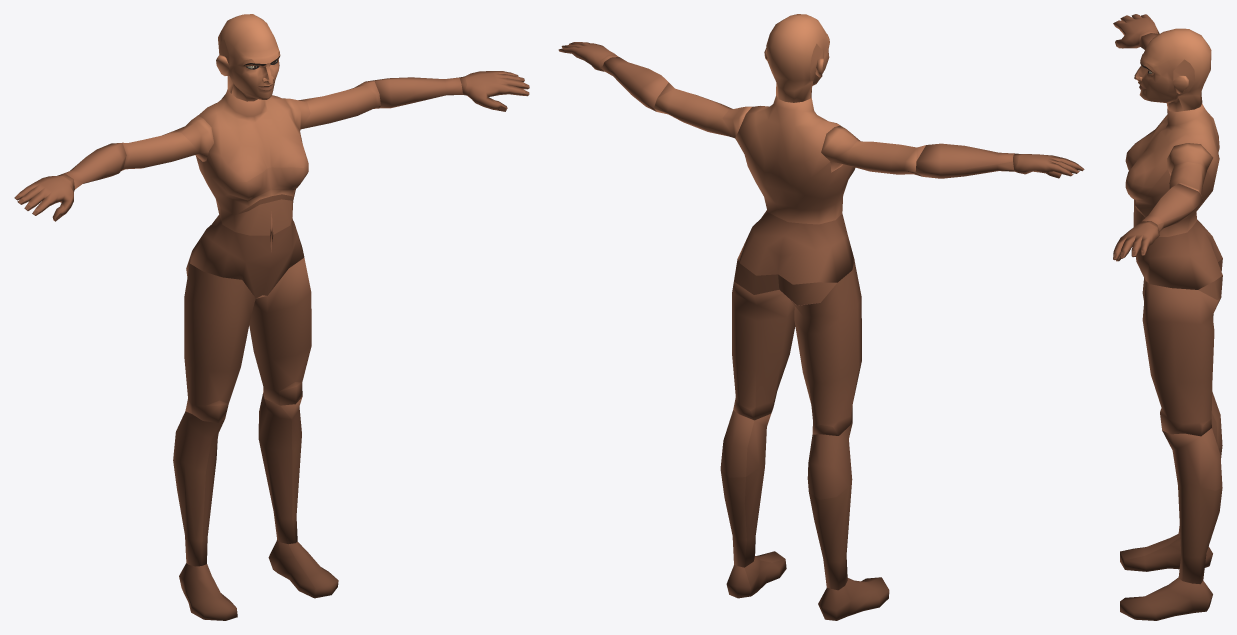
Rendered from Female2.fbx.
The picture shows the model from 3 angles, left to right: view 1: azimuth 30°, elevation 25°; view 2: azimuth 150°, elevation 25°; view 3: azimuth 270°, elevation 25°; orthographic projection. The views are drawn at different scales.
Parts seen in each view (by area): view 1: Body, Thigh_R, Thigh_L, Calf_R, Calf_L, Head, Arm_R, Arm_L, Foot_L, Foot_R, ForeArm_L, Hand_L (+2 smaller); view 2: Body, Thigh_R, Thigh_L, Calf_R, Calf_L, Head, Arm_R, ForeArm_R, Arm_L, Foot_R, ForeArm_L, Foot_L (+2 smaller); view 3: Body, Thigh_L, Calf_L, Head, Foot_L, Foot_R, Arm_L, ForeArm_L, Hand_L, Hand_R, Calf_R.
Boxes of the visible parts, <box> form: Body: <box>190,89,308,298</box>; Thigh_R: <box>184,252,255,422</box>; Thigh_L: <box>249,258,311,405</box>; Calf_R: <box>173,411,224,566</box>; Calf_L: <box>258,393,302,544</box>; Head: <box>216,14,280,101</box>; Arm_R: <box>121,115,213,170</box>; Arm_L: <box>282,81,380,130</box>; Foot_L: <box>268,540,338,598</box>; Foot_R: <box>179,563,237,620</box>; ForeArm_L: <box>366,77,462,108</box>; Hand_L: <box>459,71,529,111</box>; Body: <box>735,95,855,284</box>; Thigh_R: <box>778,261,861,435</box>; Thigh_L: <box>732,259,795,420</box>; Calf_R: <box>807,423,852,590</box>; Calf_L: <box>720,410,771,567</box>; Head: <box>764,14,829,102</box>; Arm_R: <box>821,125,925,176</box>; ForeArm_R: <box>915,143,1014,178</box>; Arm_L: <box>654,82,752,138</box>; Foot_R: <box>818,577,889,620</box>; ForeArm_L: <box>601,57,668,111</box>; Foot_L: <box>726,551,786,598</box>; Body: <box>1125,104,1222,289</box>; Thigh_L: <box>1142,275,1222,436</box>; Calf_L: <box>1162,428,1222,584</box>; Head: <box>1134,28,1211,111</box>; Foot_L: <box>1120,577,1212,620</box>; Foot_R: <box>1120,533,1212,571</box>; Arm_L: <box>1167,143,1213,196</box>; ForeArm_L: <box>1142,183,1203,231</box>; Hand_L: <box>1113,221,1159,261</box>; Hand_R: <box>1113,14,1159,48</box>; Calf_R: <box>1178,392,1222,535</box>.
Bounding box in the file's own units: 1.49 × 1.6 × 0.2858.
